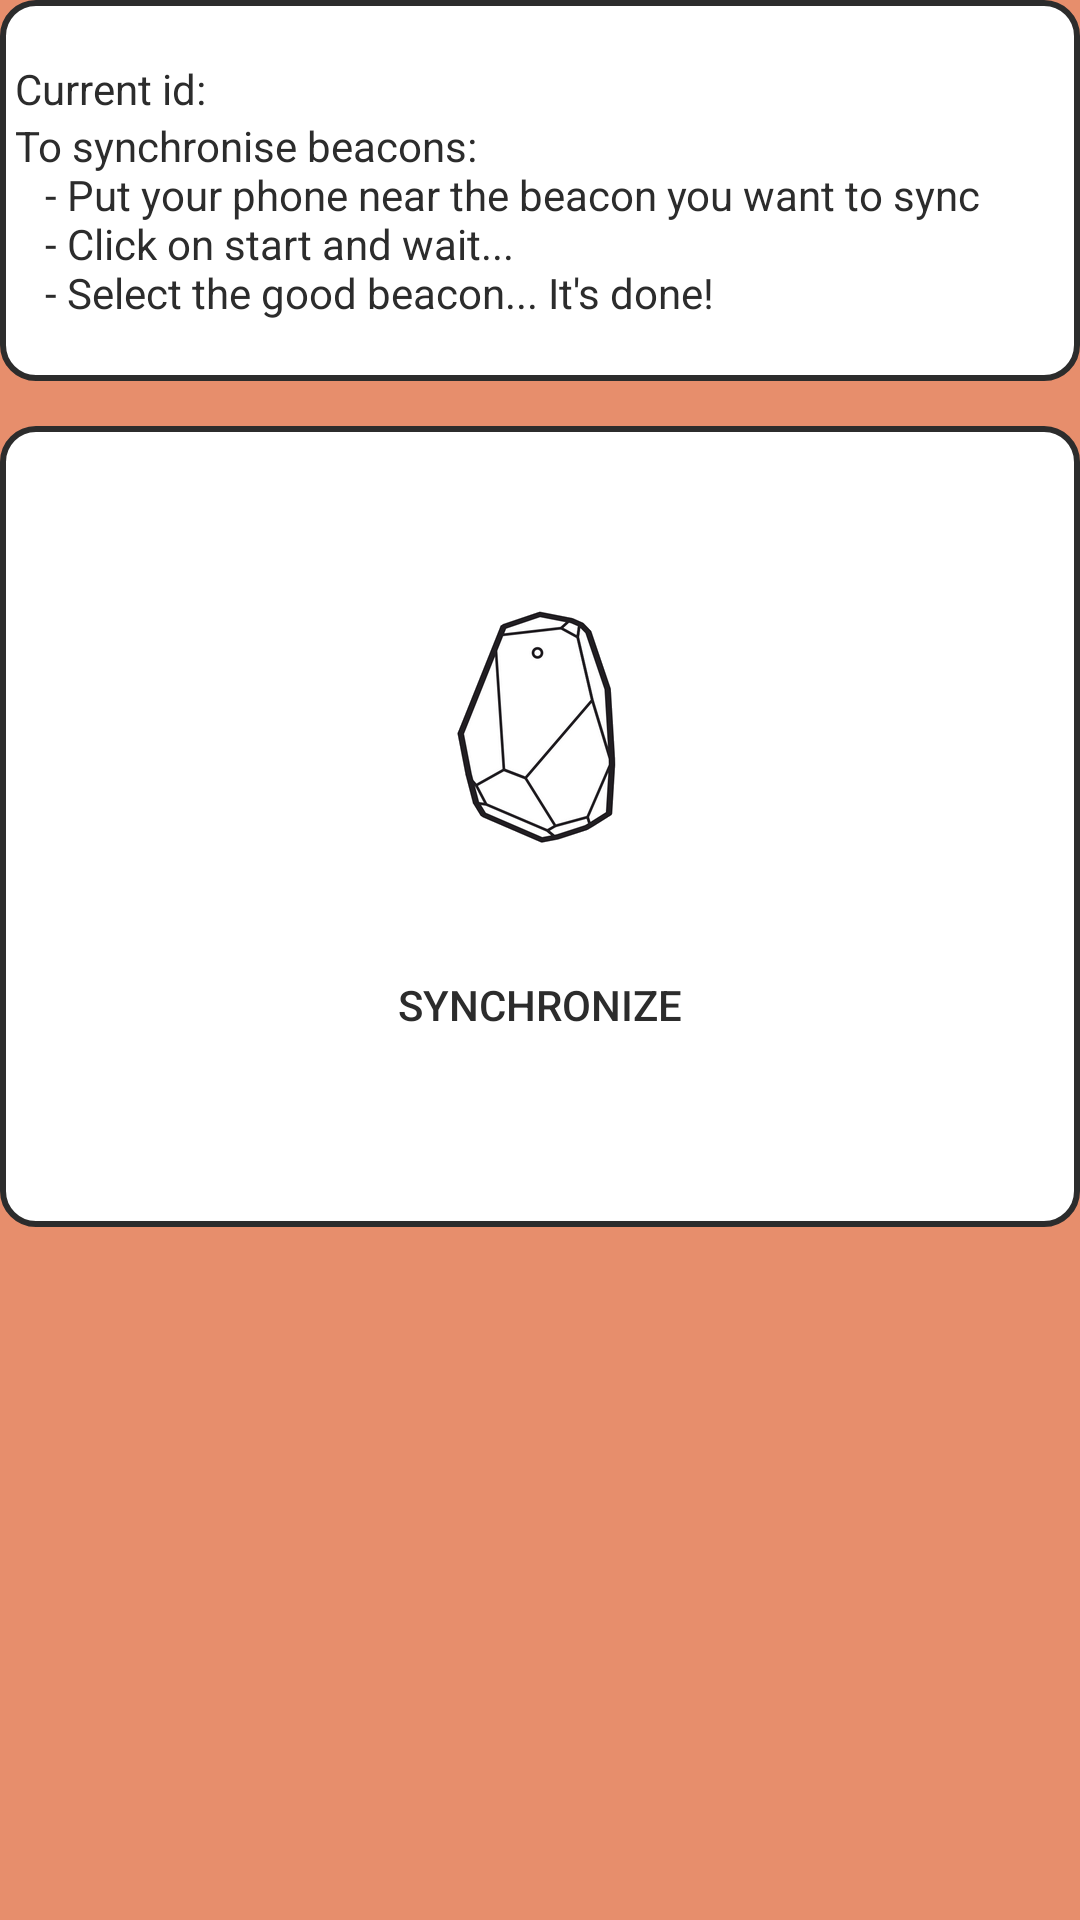

Where to tap for icons on this 1080 × 1920 app screen, as (x=x, y=y):
nearable: (x=536, y=727)
